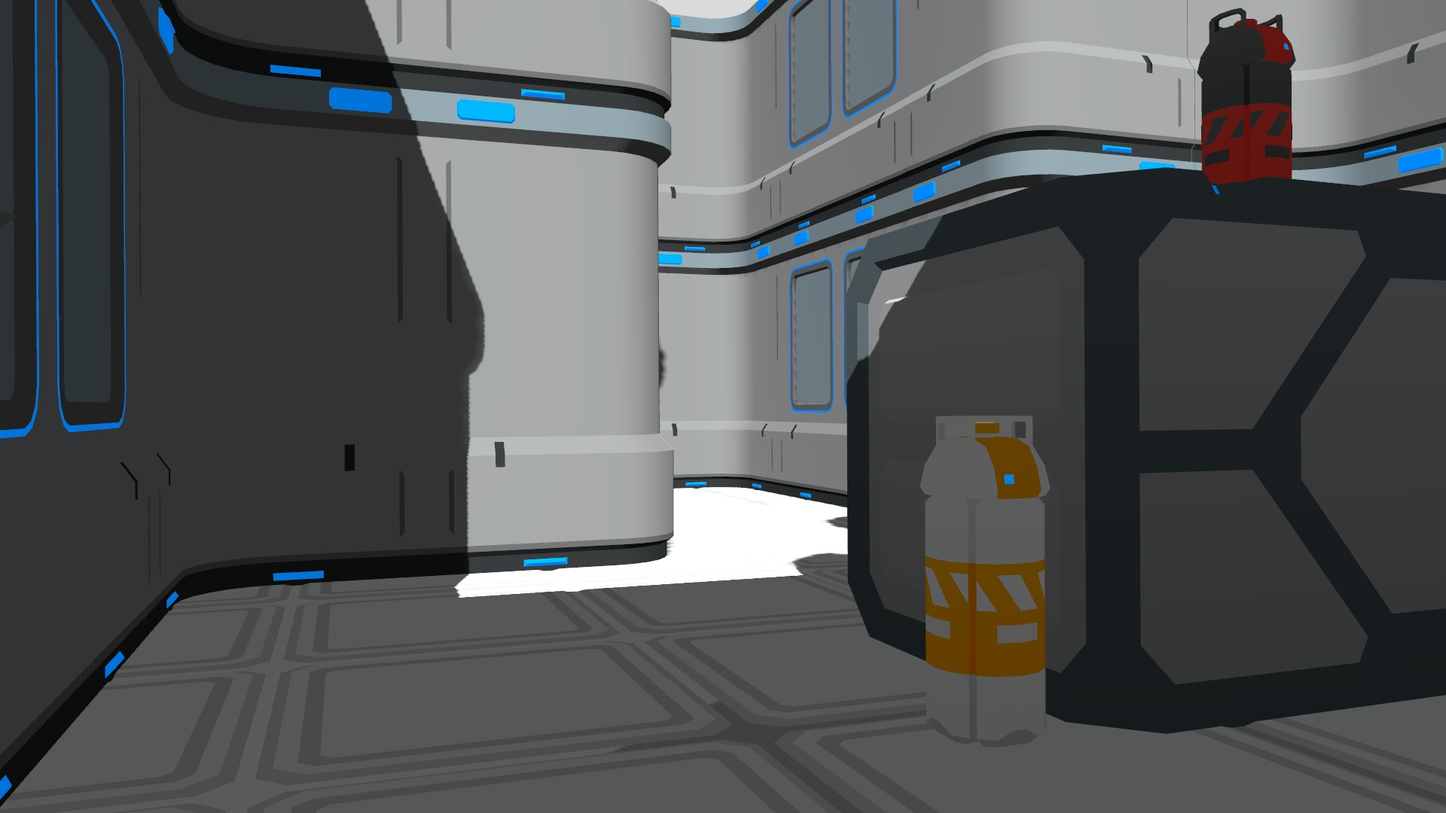red_barrel: (1191, 1, 1297, 190)
yellow_barrel: (908, 406, 1056, 750)
